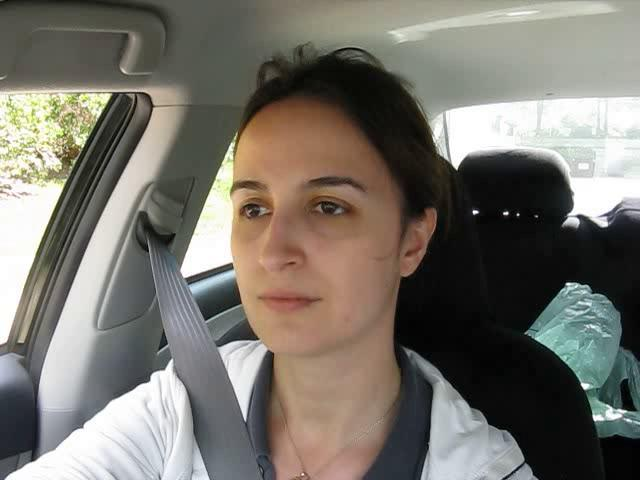no_yawn: (245, 280, 333, 321)
open_eyeL: (229, 194, 279, 230)
open_eyeR: (300, 187, 371, 228)
